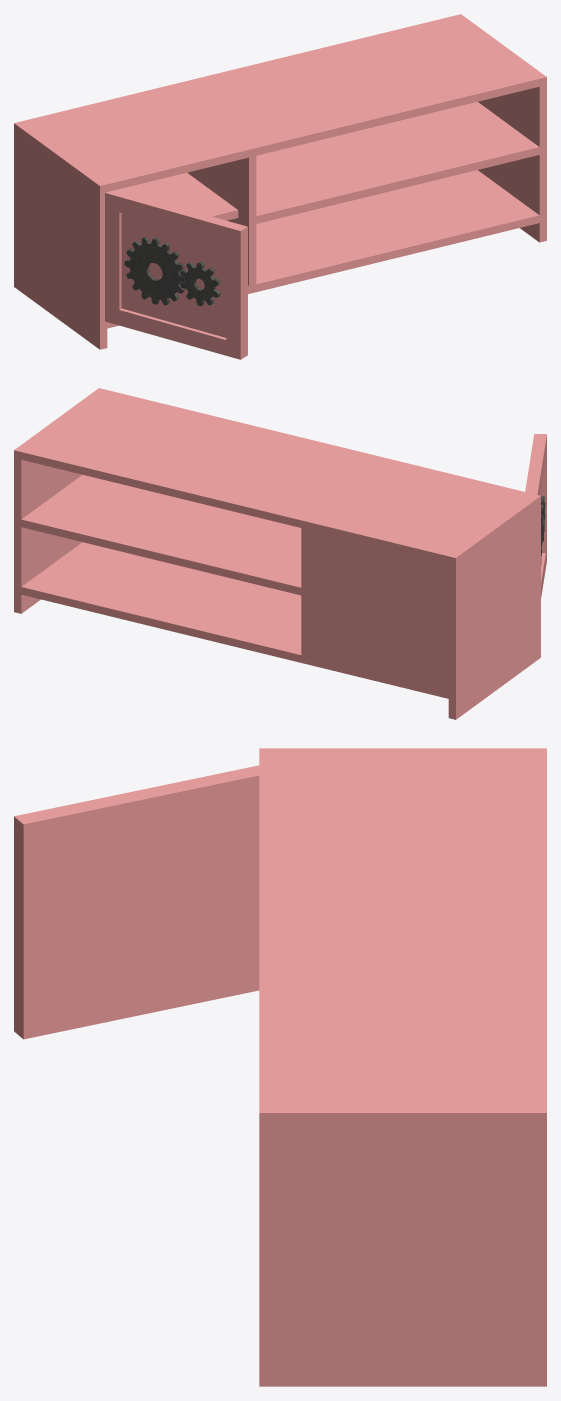
The picture shows the model from 3 angles, top to bottom: view 1: azimuth 30°, elevation 25°; view 2: azimuth 150°, elevation 25°; view 3: azimuth 270°, elevation 25°; orthographic projection. The views are drawn at different scales.
Visible parts, largest first — view 1: 69281, 69282, 69304, 69279, 69284, 69199, 69280, 69283, 16 Tooth Gear, 69305, 10 Tooth Gear; view 2: 69281, 69282, 69476, 69304, 69279, 69280, 69305, 69283, 69284, 69199; view 3: 69281, 69280, 69199, 69284.
Part boxes in pixels (x1=…): 69281: x1=14, y1=14, x2=546, y2=193; 69282: x1=107, y1=170, x2=539, y2=328; 69304: x1=256, y1=102, x2=539, y2=223; 69279: x1=14, y1=131, x2=107, y2=349; 69284: x1=105, y1=192, x2=242, y2=359; 69199: x1=109, y1=189, x2=247, y2=357; 69280: x1=478, y1=85, x2=546, y2=242; 69283: x1=187, y1=156, x2=256, y2=285; 16 Tooth Gear: x1=124, y1=237, x2=184, y2=305; 69305: x1=118, y1=172, x2=238, y2=220; 10 Tooth Gear: x1=180, y1=261, x2=220, y2=306; 69281: x1=14, y1=388, x2=540, y2=565; 69282: x1=21, y1=542, x2=448, y2=698; 69476: x1=308, y1=530, x2=448, y2=690; 69304: x1=21, y1=474, x2=301, y2=595; 69279: x1=448, y1=504, x2=540, y2=719; 69280: x1=14, y1=458, x2=82, y2=613; 69305: x1=308, y1=590, x2=448, y2=631; 69283: x1=301, y1=528, x2=308, y2=656; 69284: x1=533, y1=434, x2=546, y2=597; 69199: x1=525, y1=434, x2=542, y2=493; 69281: x1=259, y1=748, x2=546, y2=1125; 69280: x1=259, y1=1126, x2=546, y2=1386; 69199: x1=17, y1=769, x2=259, y2=1039; 69284: x1=14, y1=765, x2=259, y2=1033.
Bounding box in the file's own units: 1.2 × 0.42 × 0.7414.
Materials: 1163 (1102 with a texture image).
